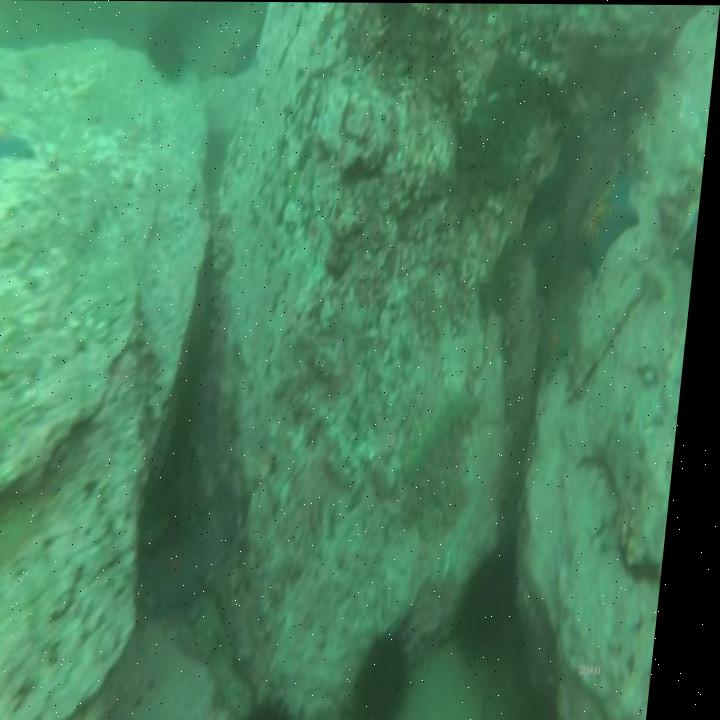echinus: (471, 551, 530, 649), (368, 634, 426, 720), (145, 26, 188, 79)
holothurian: (414, 390, 486, 481)
starfish: (578, 176, 645, 269), (147, 547, 218, 610), (544, 308, 580, 382), (0, 132, 41, 164)
